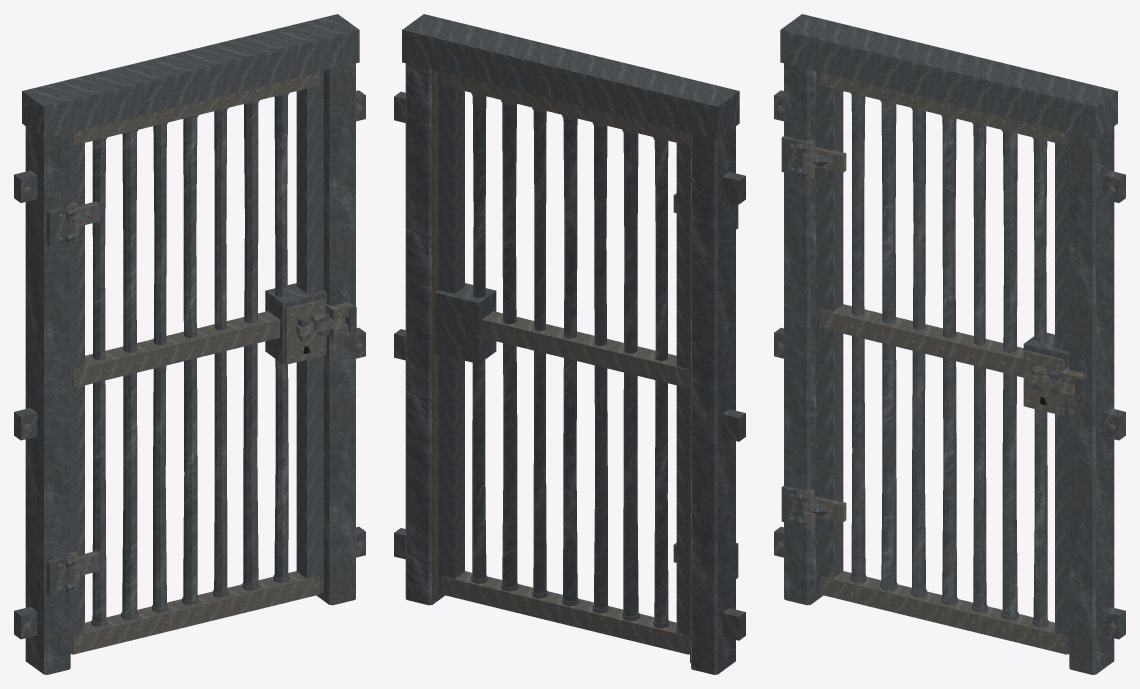
File: Grade-de-Ferro.glb
3 renders of one model, left to right at view 1: azimuth 30°, elevation 25°; view 2: azimuth 150°, elevation 25°; view 3: azimuth 330°, elevation 25°, orthographic.
Parts seen in each view (by area): view 1: Marco fixo, Barras, Quadro da folha, Fechadura, Âncoras de parede, Dobradiças fixas, Dobradiças da folha, Batente do ferrolho, Ferrolho; view 2: Marco fixo, Barras, Quadro da folha, Fechadura, Âncoras de parede; view 3: Marco fixo, Barras, Quadro da folha, Âncoras de parede, Fechadura, Dobradiças fixas, Dobradiças da folha, Batente do ferrolho, Ferrolho.
Part boxes in pixels (x1,y1,x2,y2): Marco fixo: [22, 14, 359, 674]; Barras: [91, 93, 289, 627]; Quadro da folha: [70, 71, 323, 654]; Fechadura: [265, 283, 329, 364]; Âncoras de parede: [14, 90, 365, 639]; Dobradiças fixas: [46, 202, 77, 596]; Dobradiças da folha: [70, 201, 99, 581]; Batente do ferrolho: [326, 302, 356, 338]; Ferrolho: [296, 313, 345, 336]; Marco fixo: [402, 14, 739, 674]; Barras: [471, 92, 669, 628]; Quadro da folha: [438, 71, 689, 654]; Fechadura: [435, 283, 496, 363]; Âncoras de parede: [394, 91, 745, 640]; Marco fixo: [780, 14, 1117, 674]; Barras: [850, 93, 1048, 627]; Quadro da folha: [816, 71, 1069, 654]; Âncoras de parede: [774, 90, 1125, 639]; Fechadura: [1023, 332, 1069, 415]; Dobradiças fixas: [781, 136, 814, 528]; Dobradiças da folha: [802, 147, 846, 522]; Batente do ferrolho: [1060, 367, 1087, 405]; Ferrolho: [1026, 365, 1074, 393].
Size of the model in its own units: 1.35 by 2.13 by 0.21.
Materials: 3 (3 with a texture image).
